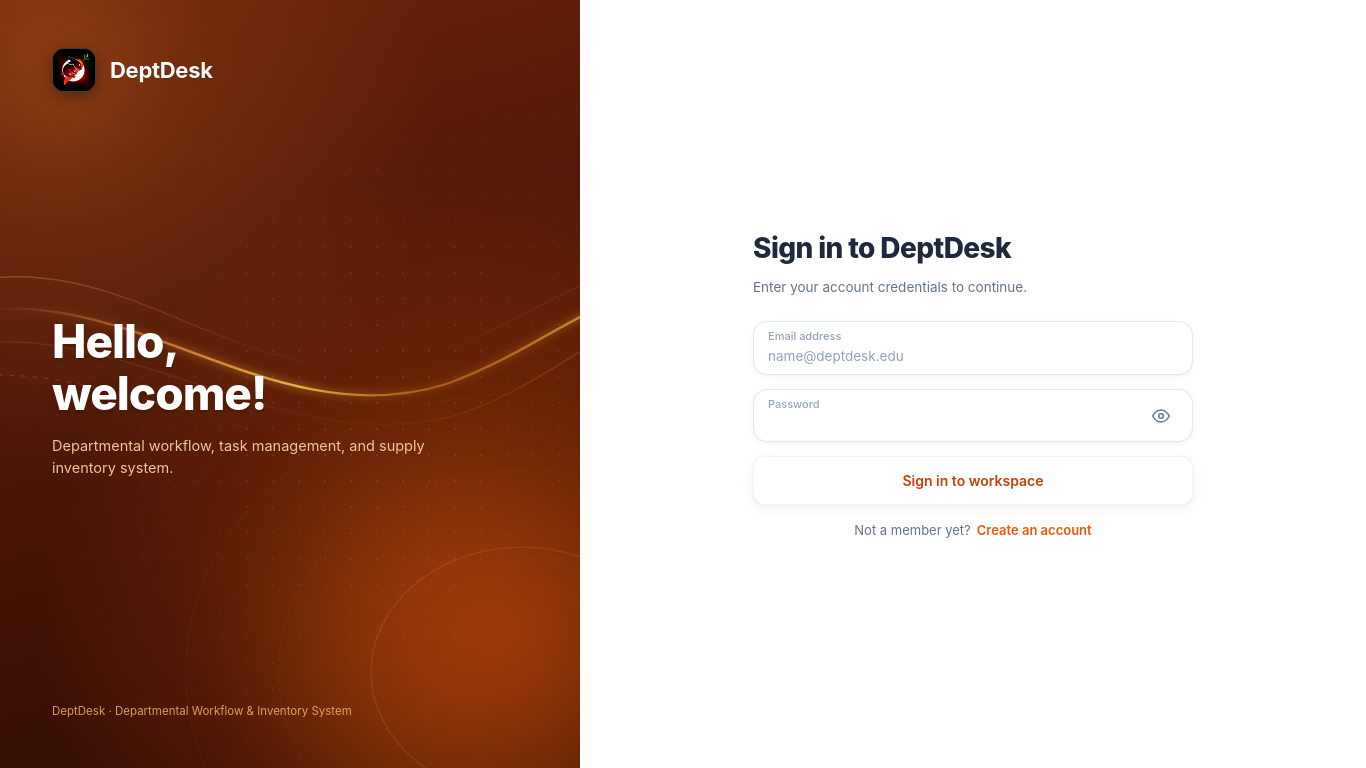
hides secretary and dean signup choices when their slots are full
Click the button "Create an account" at (1034, 531), box [977, 521, 1092, 541]
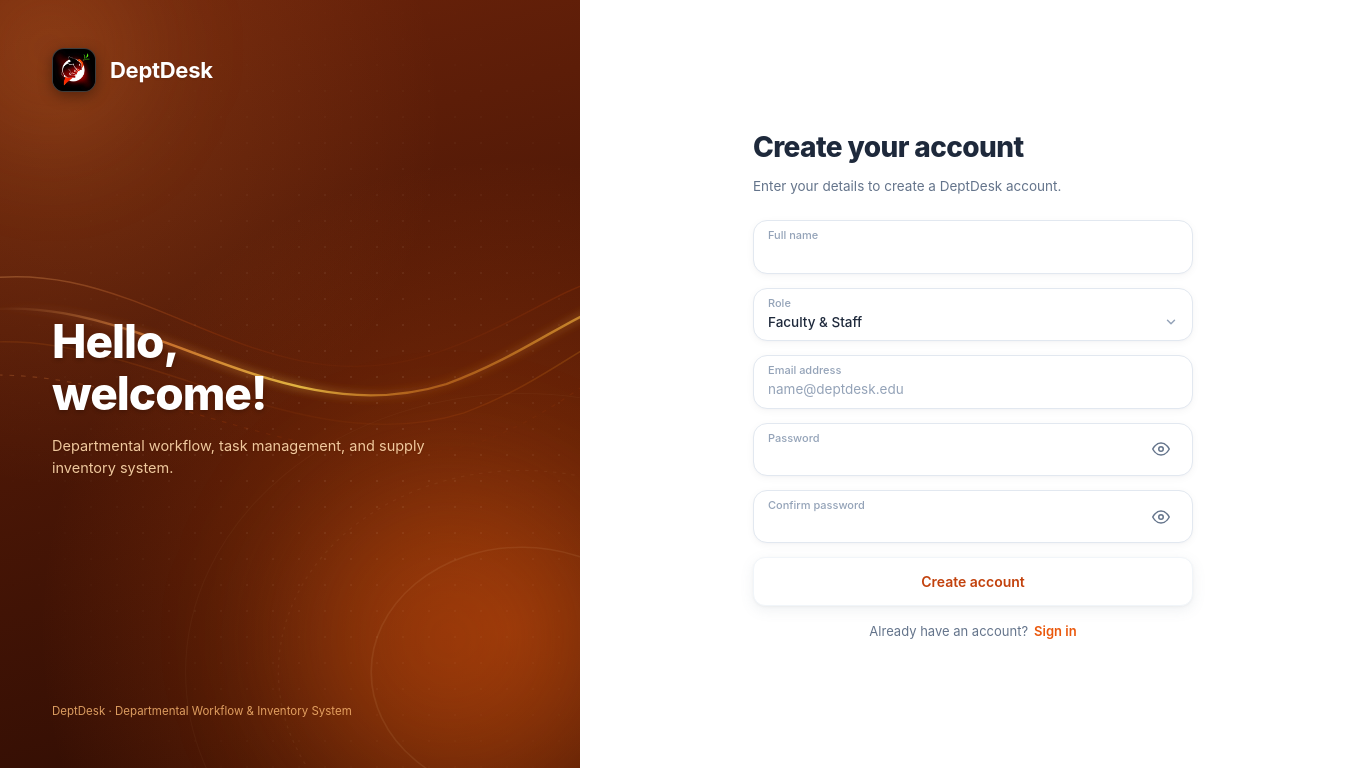
Expected: the dropdown labelled "Role" is enabled, [768, 312, 1178, 332]
Expected: the dropdown labelled "Role" shows "Faculty & Staff", [768, 312, 1178, 332]
